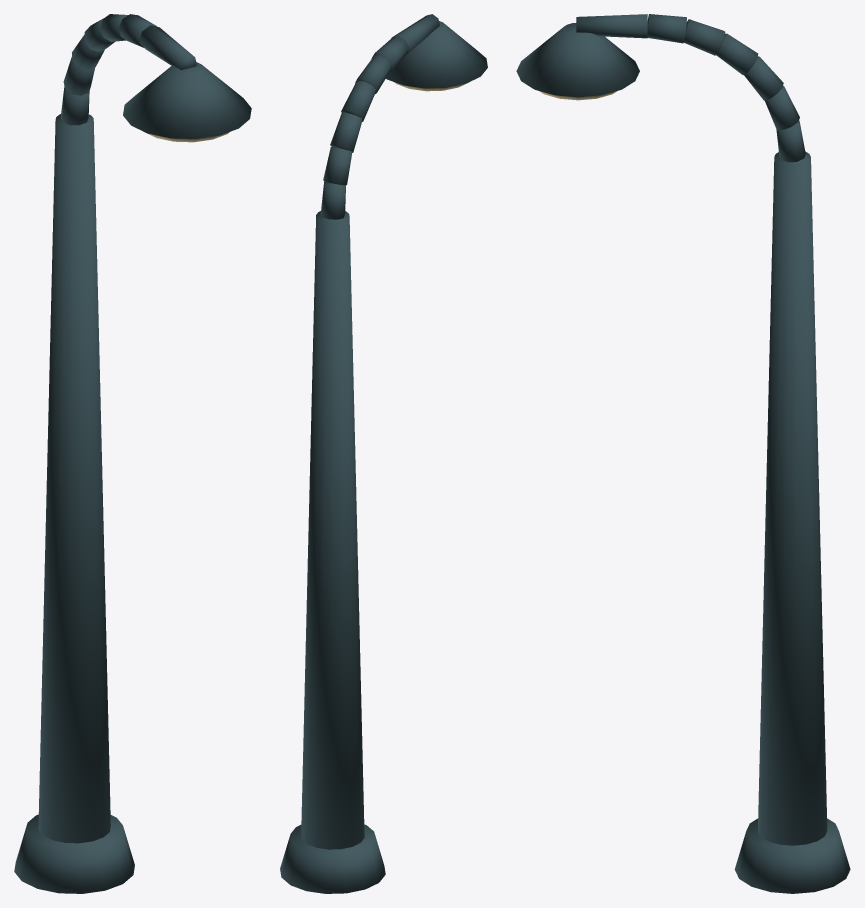
File: quay-lantern.glb
3 renders of one model, left to right at view 1: azimuth 30°, elevation 25°; view 2: azimuth 150°, elevation 25°; view 3: azimuth 270°, elevation 25°, orthographic. The views are drawn at different scales.
Visible parts, largest first — view 1: quay-lantern; view 2: quay-lantern; view 3: quay-lantern.
Part boxes in pixels (left/top/right/bottom): quay-lantern: left=14, top=14, right=251, bottom=893; quay-lantern: left=280, top=14, right=487, bottom=893; quay-lantern: left=516, top=14, right=850, bottom=893.
Bounding box in the file's own units: 0.64 × 4.89 × 1.73.
